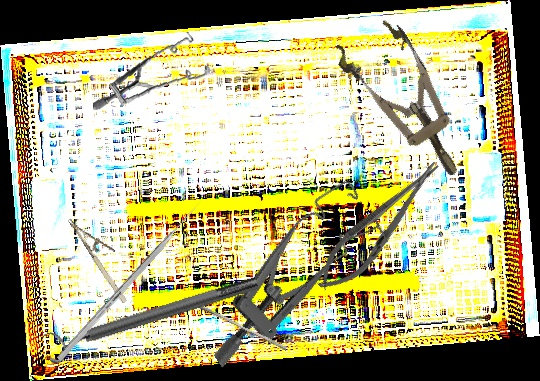Fixation Ring: (41, 267, 263, 366)
Needle Holder: (306, 150, 453, 303), (67, 207, 141, 305)
Pusher: (56, 199, 204, 362), (181, 297, 289, 351)
Speculum: (172, 176, 400, 371), (329, 10, 484, 195), (92, 23, 215, 122)
